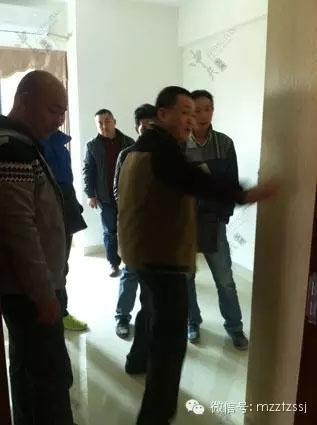head: (10, 69, 76, 142), (155, 83, 196, 142), (188, 85, 219, 136), (132, 101, 161, 141), (91, 106, 120, 135)
